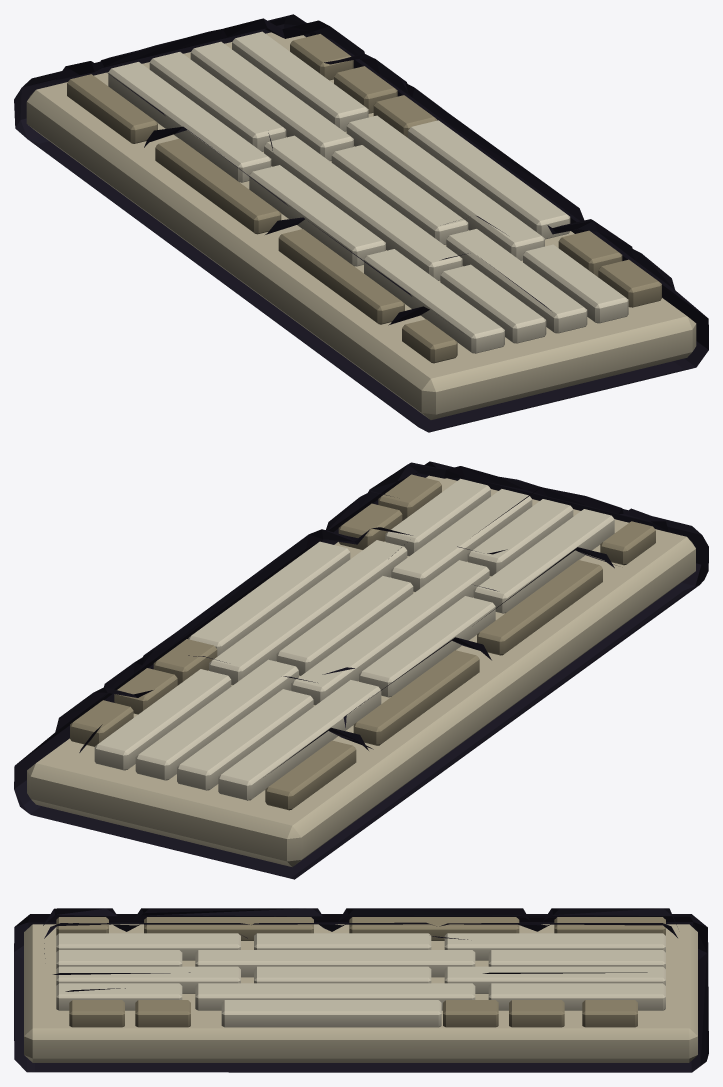
Rendered from Keyboard_Outline.glb.
The picture shows the model from 3 angles, top to bottom: view 1: azimuth 30°, elevation 25°; view 2: azimuth 150°, elevation 25°; view 3: azimuth 270°, elevation 25°; orthographic projection. The views are drawn at different scales.
Visible parts, largest first — view 1: Keyboard; view 2: Keyboard; view 3: Keyboard.
Part boxes in pixels (bbox=[...]): Keyboard: bbox=[14, 14, 708, 432]; Keyboard: bbox=[14, 461, 708, 879]; Keyboard: bbox=[14, 908, 708, 1072].
Size of the model in its own units: 0.00874 by 0.00237 by 0.0213.
Materials: 1 (1 with a texture image).
